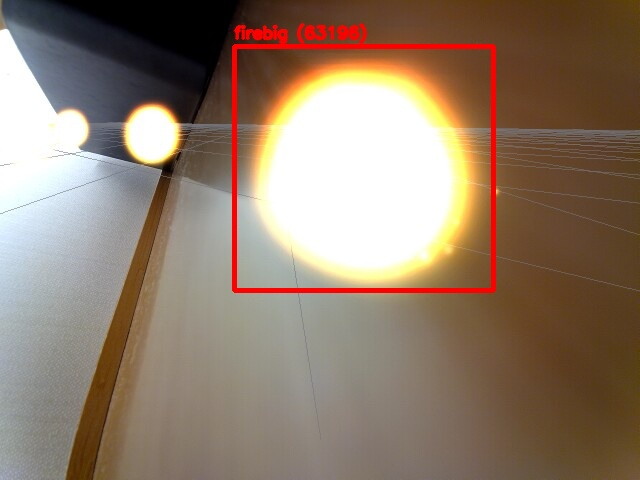firebig: (234, 46, 493, 290)
